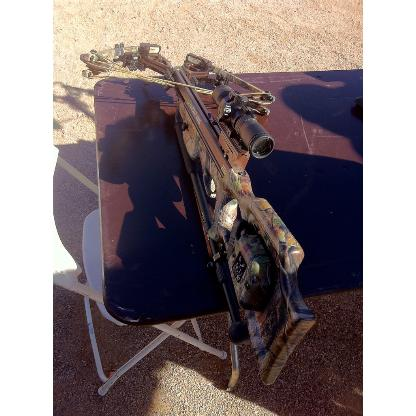gun: (77, 41, 315, 389)
